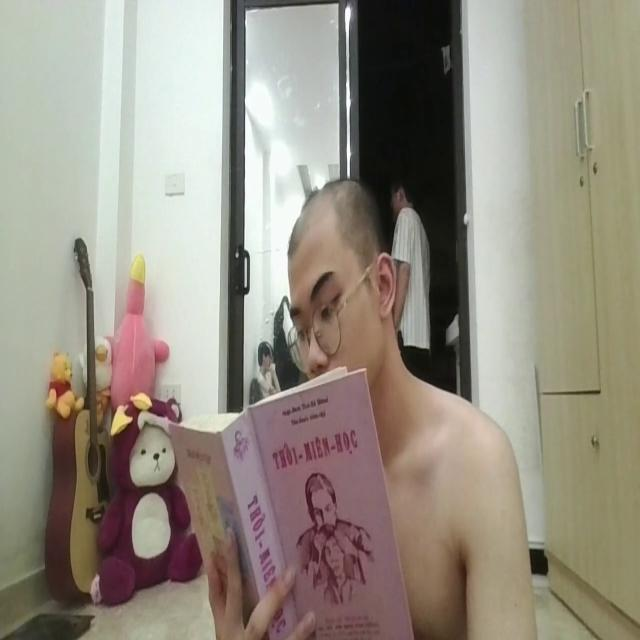book: (166, 362, 414, 640)
extra_person: (388, 156, 438, 356), (249, 331, 279, 402)
student: (288, 175, 540, 640)
